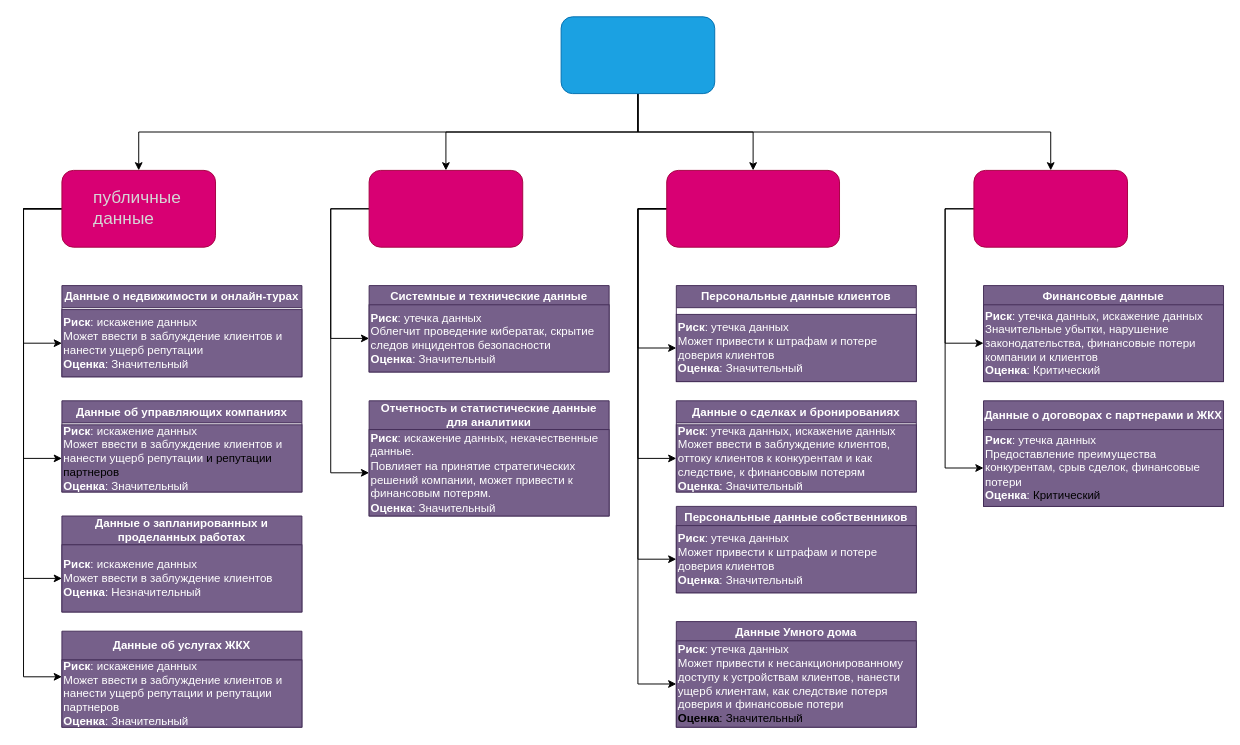
The diagram is 1240 pixels wide and 745 high, and some of its shapes have lost their labels. The shapes that lost their labels are listed below. From the top down, each one's centre as x and y in pixels, then its label:
At pixel 637 55: "Безопасность данных".
At pixel 445 208: "внутренние данные".
At pixel 753 208: "конфиденциальные данные".
At pixel 1050 208: "секретные данные".
